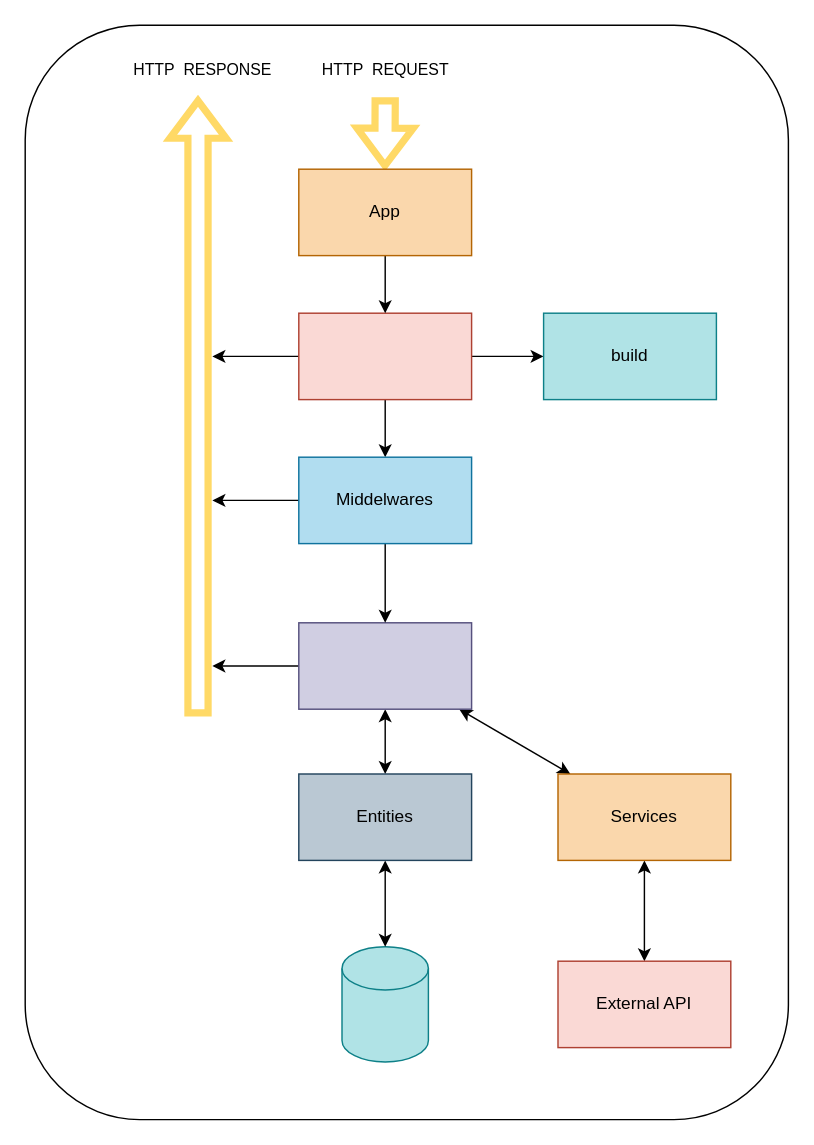
This 814x1145 diagram has some shape labels left out. The box of each missing label's shape, as (x1, y1, x2, y2) in pixels:
Controllers: (297, 621, 472, 709)
DB: (341, 945, 428, 1062)
Routes: (297, 312, 472, 400)
